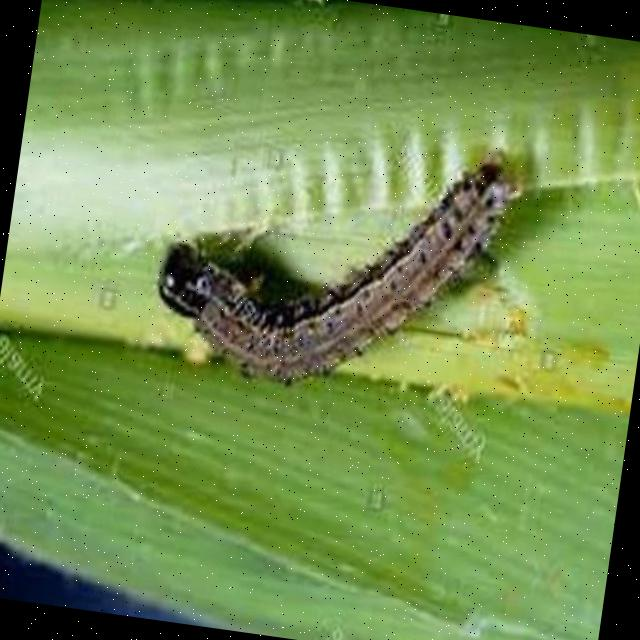worm: (144, 119, 528, 422)
